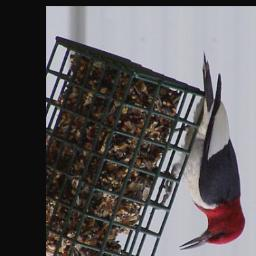Woodpecker: (160, 52, 246, 251)
